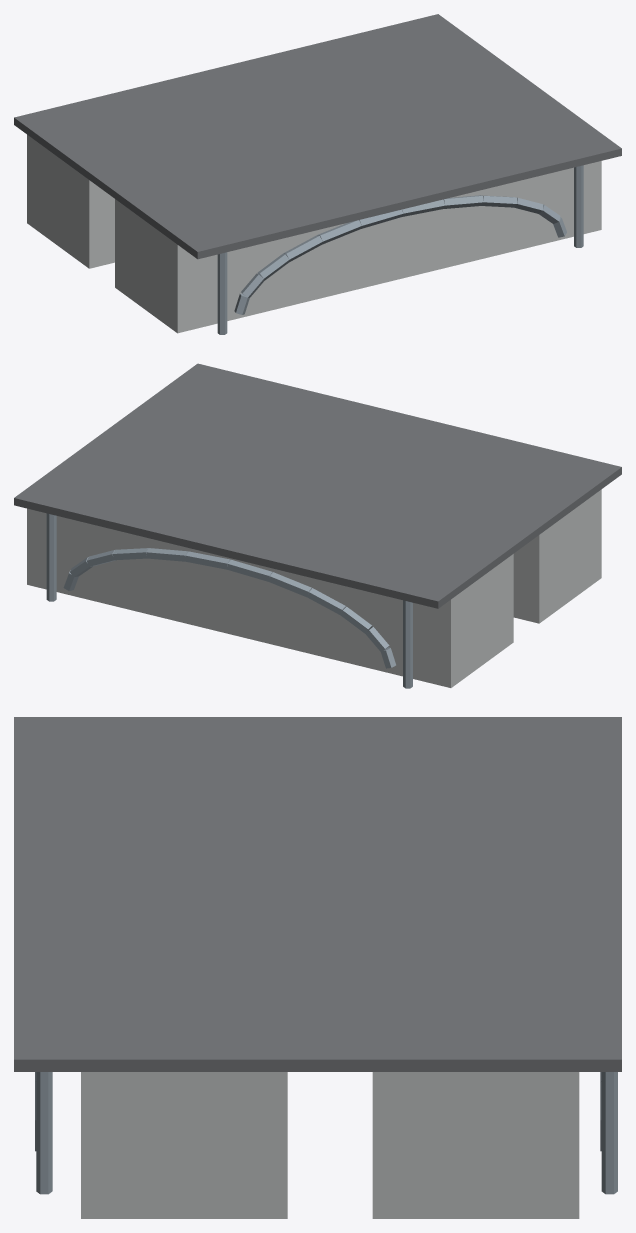
The model's file is source.glb.
3 renders of one model, top to bottom at view 1: azimuth 30°, elevation 25°; view 2: azimuth 150°, elevation 25°; view 3: azimuth 270°, elevation 25°, orthographic. The views are drawn at different scales.
Visible parts, largest first — view 1: worldgen; view 2: worldgen; view 3: worldgen.
Boxes of the visible parts, left/top/right/bottom form: worldgen: left=14, top=14, right=621, bottom=334; worldgen: left=14, top=363, right=621, bottom=688; worldgen: left=14, top=717, right=621, bottom=1218.
Size of the model in its own units: 60 by 13 by 45.
